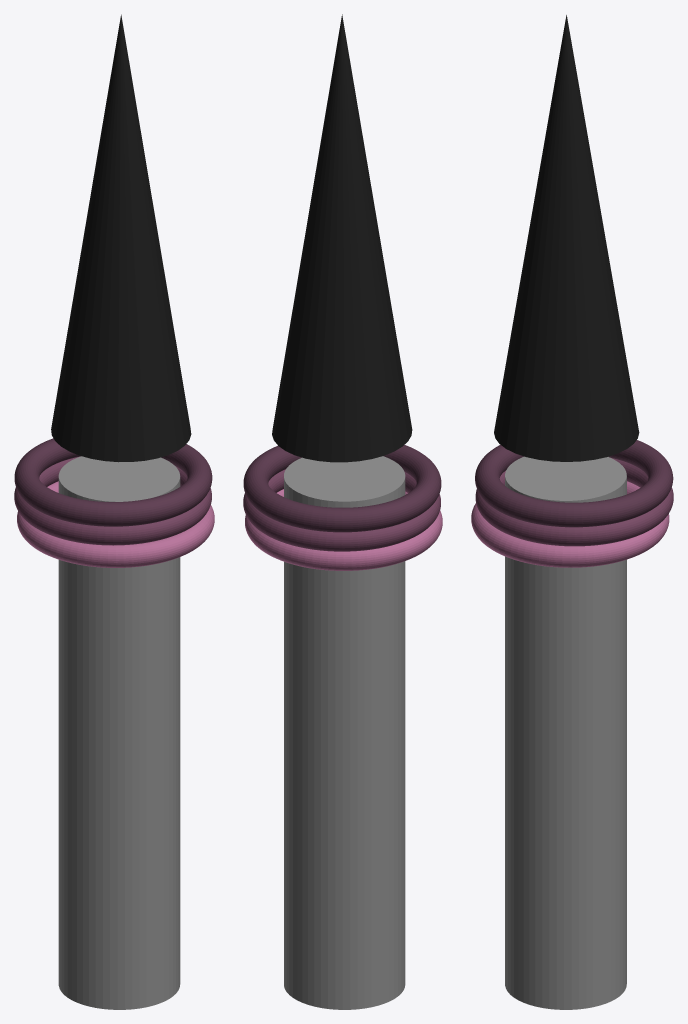
Rendered from tower.gltf.
3 views of the same model, side by side, from view 1: azimuth 30°, elevation 25°; view 2: azimuth 150°, elevation 25°; view 3: azimuth 270°, elevation 25° (orthographic).
Visible parts, largest first — view 1: Cylinder, Cone, Torus, Torus.002, Torus.001; view 2: Cylinder, Cone, Torus, Torus.001, Torus.002; view 3: Cylinder, Cone, Torus, Torus.002, Torus.001.
Boxes of the visible parts, <box> form: Cylinder: <box>58,456,180,1009</box>; Cone: <box>51,14,191,462</box>; Torus: <box>14,438,212,526</box>; Torus.002: <box>17,481,214,567</box>; Torus.001: <box>14,456,211,545</box>; Cylinder: <box>284,456,405,1009</box>; Cone: <box>272,14,412,462</box>; Torus: <box>243,445,441,532</box>; Torus.001: <box>243,469,440,551</box>; Torus.002: <box>245,489,442,570</box>; Cylinder: <box>505,456,626,1009</box>; Cone: <box>494,15,639,461</box>; Torus: <box>475,440,673,527</box>; Torus.002: <box>471,481,669,567</box>; Torus.001: <box>475,458,673,546</box>.
Size of the model in its own units: 1.14 by 6.16 by 1.16.
